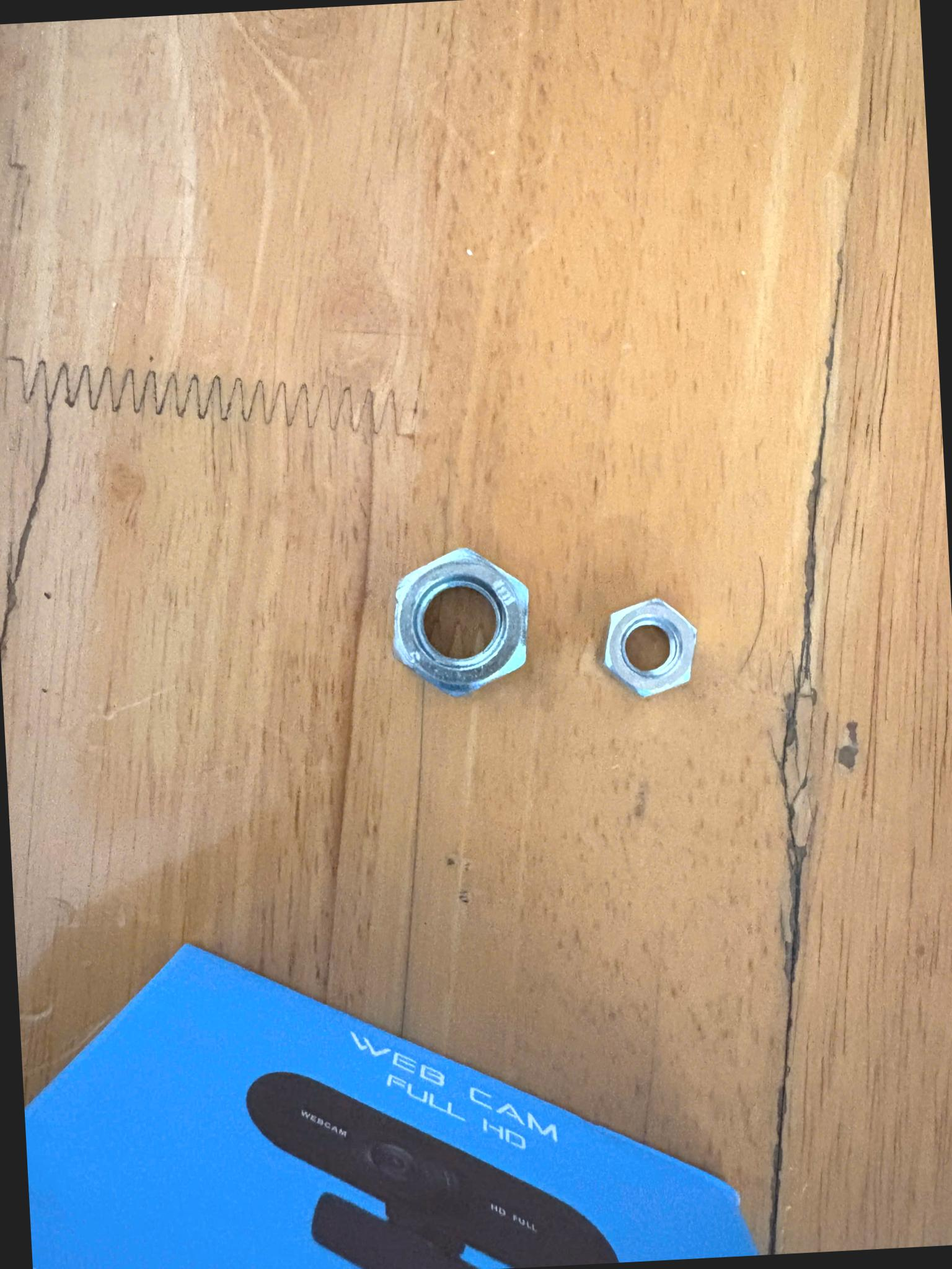nut: (372, 540, 551, 715), (600, 583, 707, 719)
